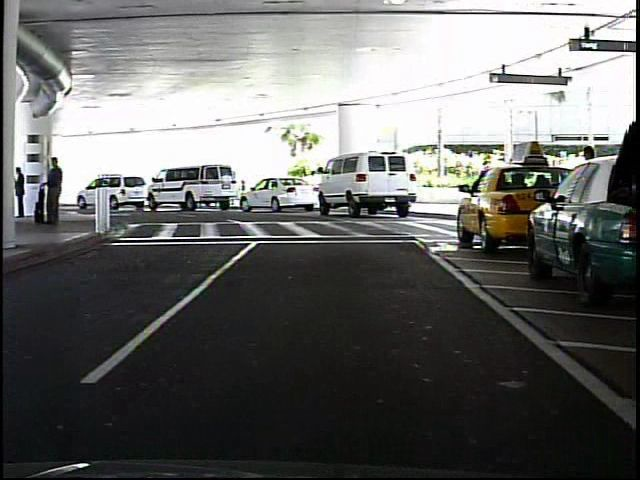person: (575, 143, 601, 242), (47, 155, 67, 227)
